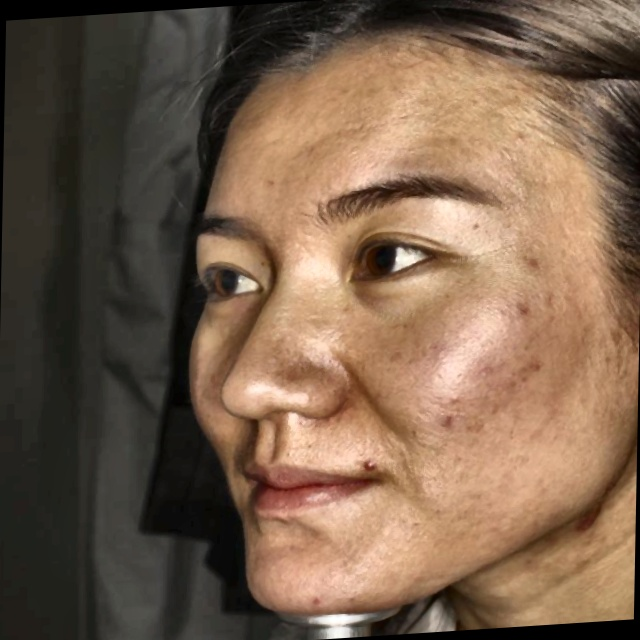comedone: (433, 404, 467, 439), (360, 451, 379, 474)
